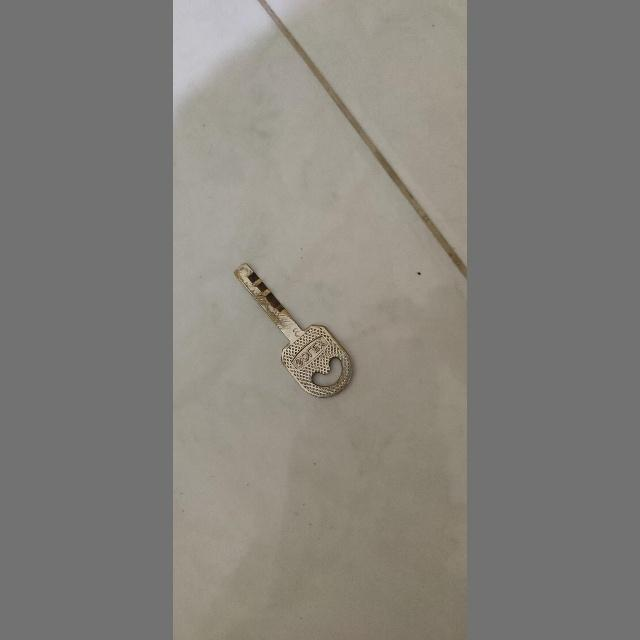Keys: (228, 272, 352, 412)
